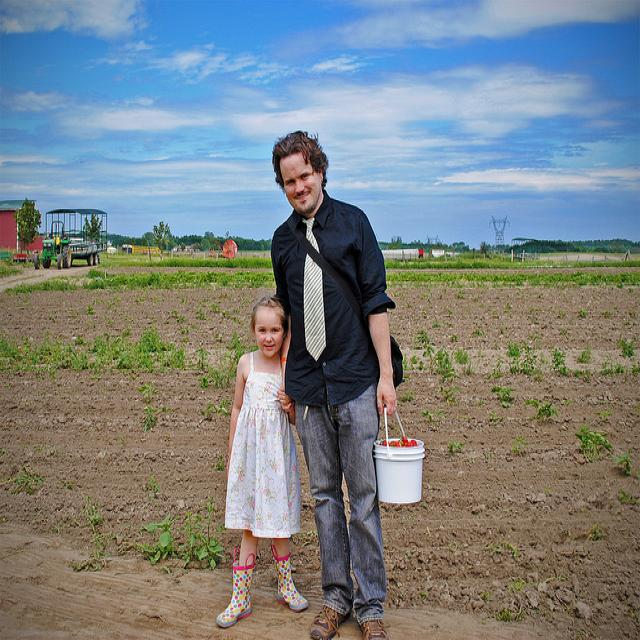Vehicle: (34, 209, 107, 270)
